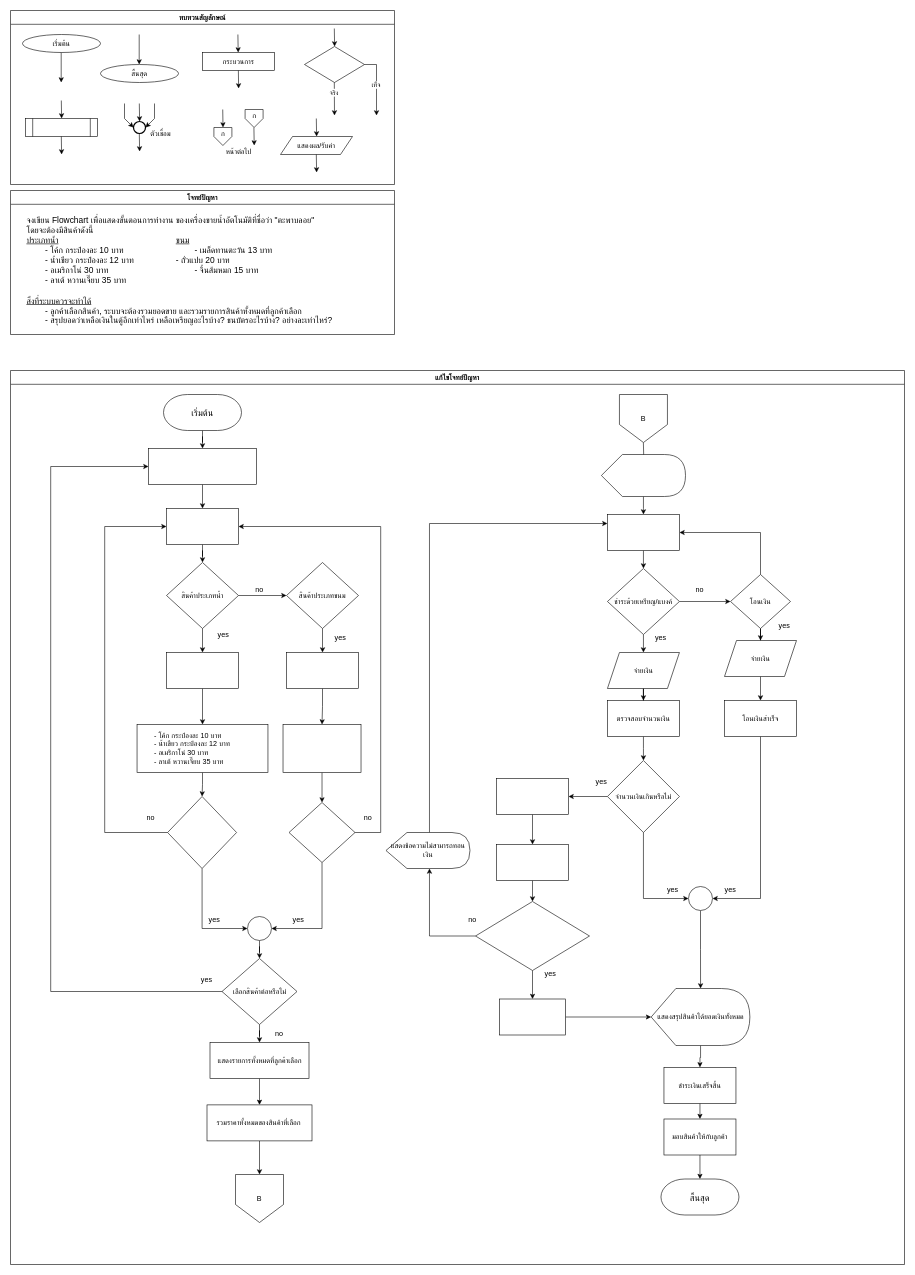
The diagram is 915 pixels wide and 1275 high, and some of its shapes have lost their labels. The shapes that lost their labels are listed below. From the top down, each one's centre as x and y in pixels, then its label:
(334,64): ประโยคเงื่อนไข
(61,127): ฟังก์ชัน/โมดูล
(202,466): แสดง รายการสินค้าทั้งและราคา
(643,475): แสดงจำนวนเงินที่ต้องชำระ
(202,526): เลือกประเภทสินค้า
(643,532): เลือกประเภทการชำระ
(202,670): แสดงรายการสินค้าประเภทนํ้าและราคา
(322,670): แสดงรายการสินค้าประเภทขนมและราคา
(321,748): - เมล็ดทานตะวัน 13 บาท - ถั่วแปบ 20 บาท - จิ้นส้มหมก 15 บาท
(532,796): คำนวณเงินที่เกินมา
(202,832): เลือกสินค้าประเภทนํ้าที่ต้องการ
(321,832): เลือกสินค้าขนมที่ต้องการ
(532,862): คำนวณ เหรียญ/แบงค์ ในเครื่อง
(532,935): มี เหรียญ/แบงค์ในเครื่องหรือไม่
(532,1016): ทอนเงินให้ลูกค้าตามจำนวน
